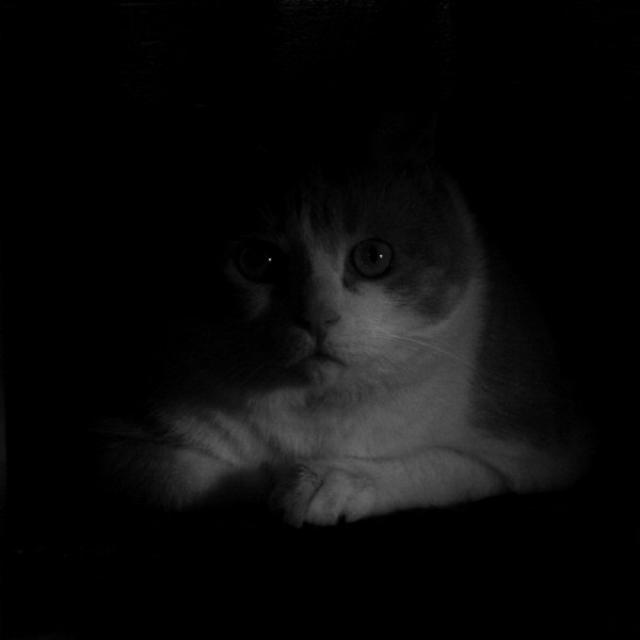Cat: (48, 10, 640, 527)
